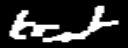bat: (0, 0, 128, 48)
